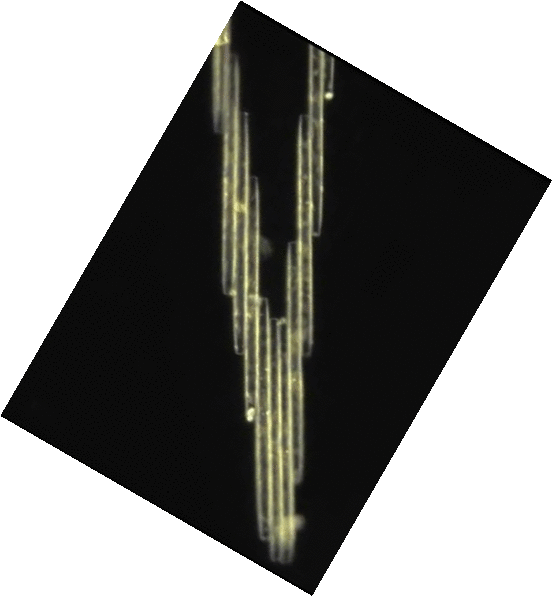bacilleria: (285, 241, 305, 482), (255, 295, 272, 542), (277, 319, 293, 565), (297, 116, 313, 355), (268, 315, 280, 563), (225, 54, 237, 297), (234, 112, 246, 355), (309, 46, 323, 237), (246, 176, 256, 423), (214, 34, 225, 132), (321, 50, 336, 104)
